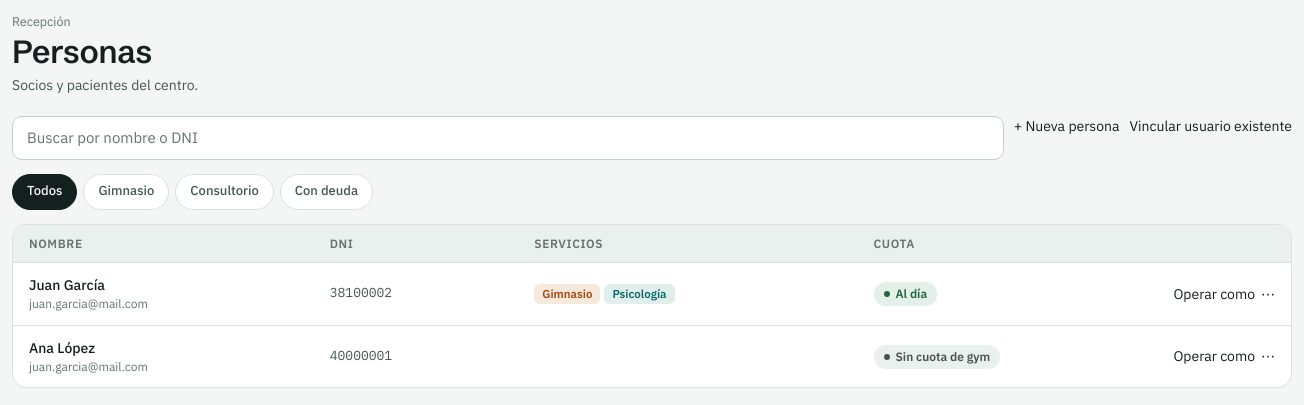
Test: PersonasPage › Consultorio muestra solo a quien tuvo turnos de consultorio
This screenshot has width=1304, height=405.
Expected: the text "Ana López" is shown, [29, 339, 95, 357]
Click the button "Consultorio".
click(224, 192)  # box [175, 174, 274, 210]
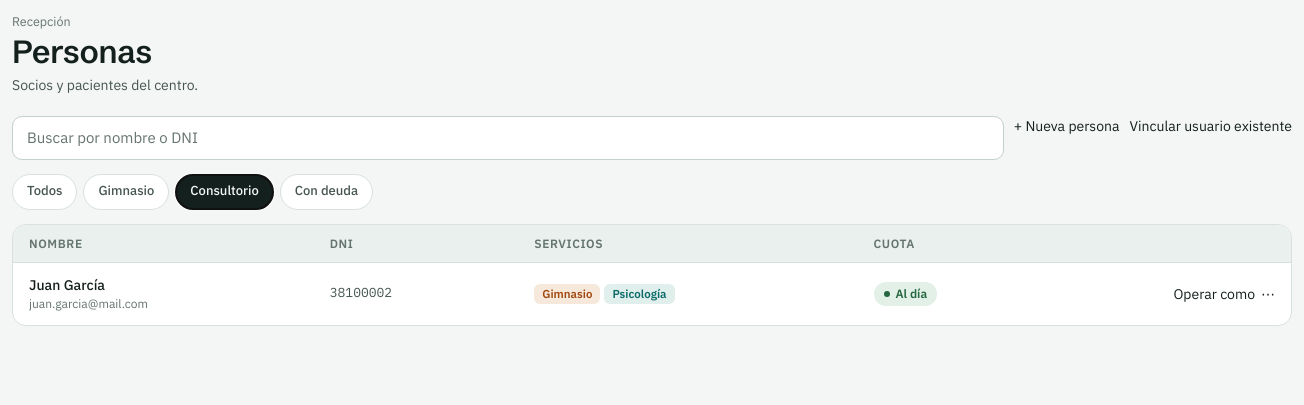
Expected: the text "Juan García" is shown, [29, 276, 105, 294]
Expected: the text "Ana López" is gone
